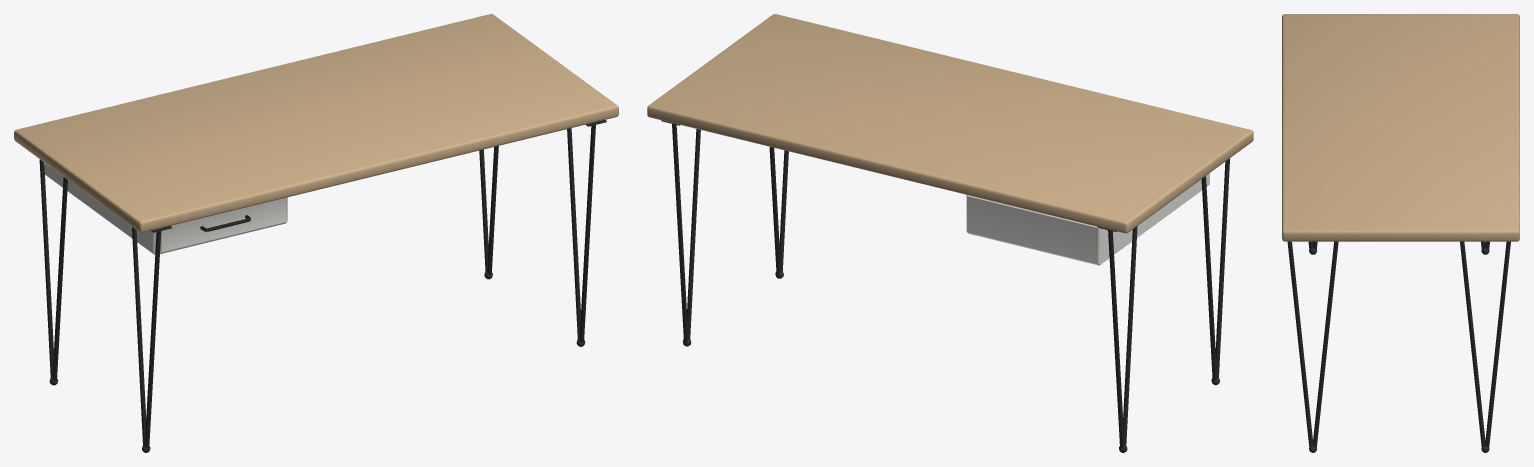
Rendered from deskSimple.glb.
The picture shows the model from 3 angles, left to right: view 1: azimuth 30°, elevation 25°; view 2: azimuth 150°, elevation 25°; view 3: azimuth 270°, elevation 25°; orthographic projection. The views are drawn at different scales.
Visible parts, largest first — view 1: deskSimple; view 2: deskSimple; view 3: deskSimple.
Part boxes in pixels (left/top/right/bottom): deskSimple: left=14, top=14, right=618, bottom=452; deskSimple: left=647, top=14, right=1253, bottom=452; deskSimple: left=1282, top=14, right=1519, bottom=452.
Bounding box in the file's own units: 1.5 × 0.74 × 0.69.
